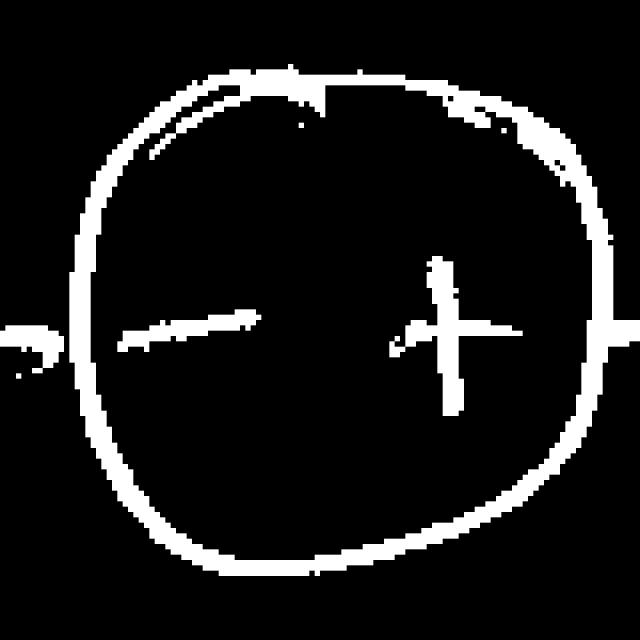voltage_source: (56, 41, 623, 596)
